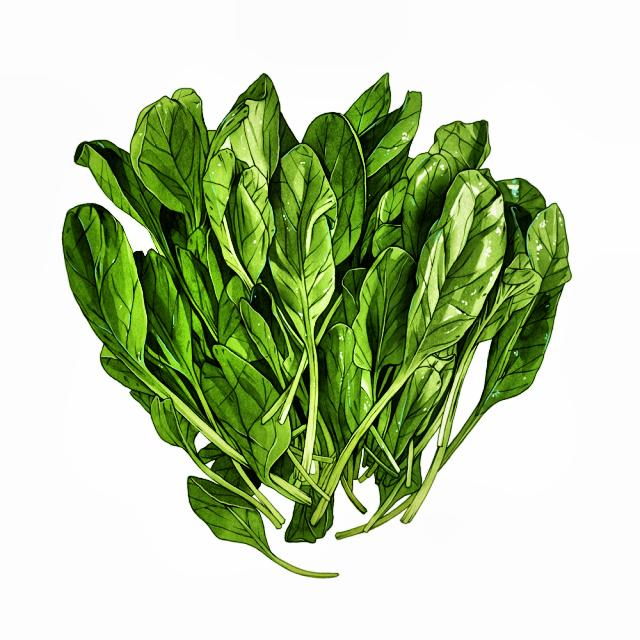spinach: (33, 80, 536, 580)
